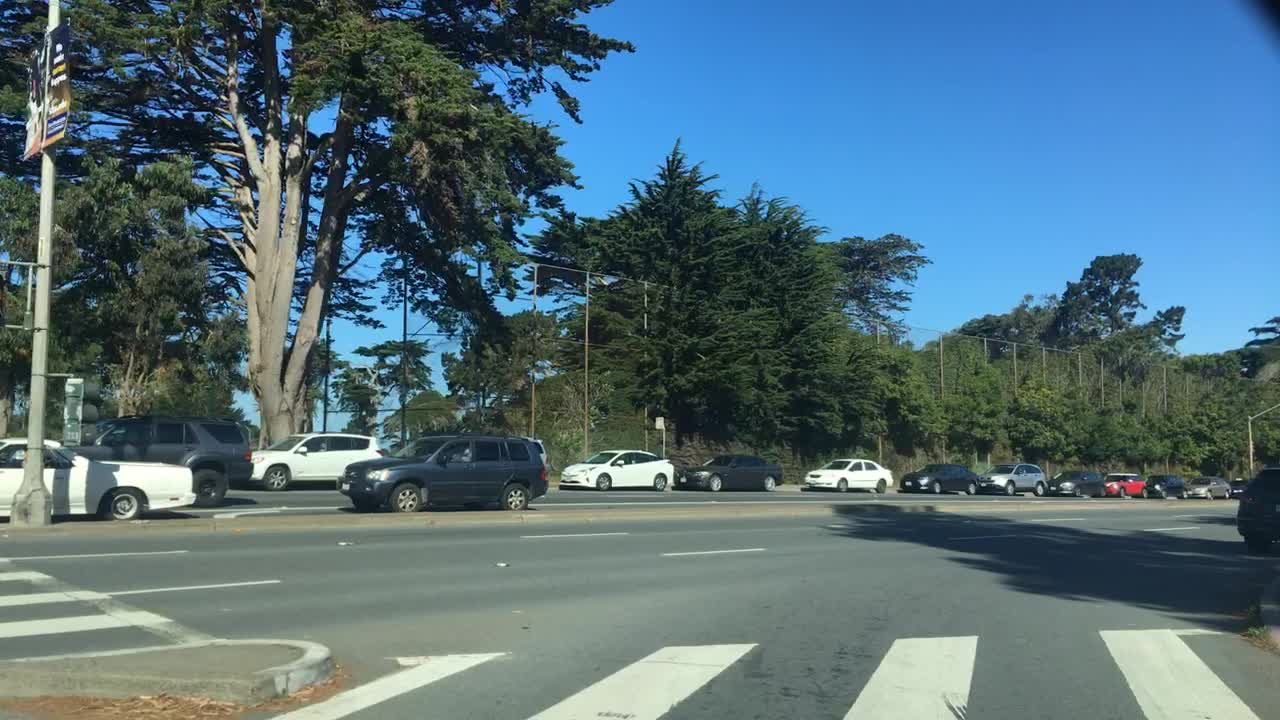car: (336, 430, 550, 514), (0, 434, 196, 525), (79, 413, 254, 511), (247, 430, 383, 493), (558, 446, 675, 493), (674, 451, 784, 495), (1233, 467, 1279, 549), (801, 455, 894, 495), (897, 460, 983, 495), (978, 460, 1050, 498), (513, 432, 551, 485), (1048, 467, 1109, 498), (1186, 474, 1235, 502), (1104, 470, 1149, 498), (1146, 474, 1189, 498), (1228, 476, 1251, 500)
traffic light: (76, 375, 104, 448)
traffic sign: (653, 413, 665, 432)
